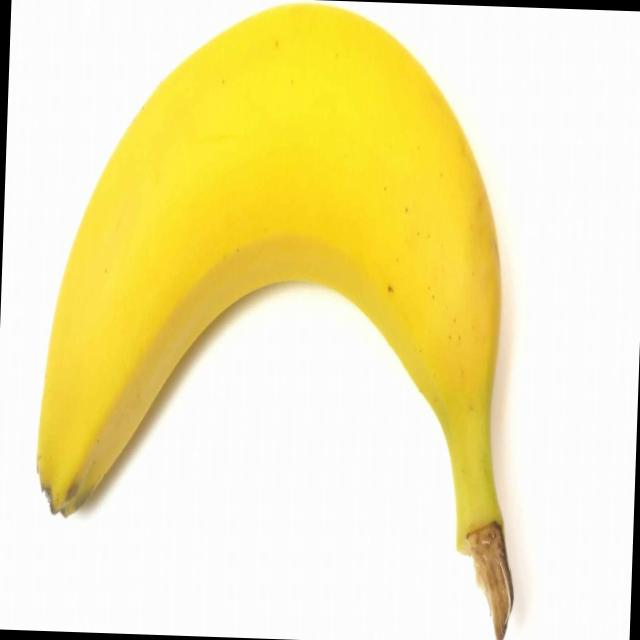banana: (1, 0, 535, 450)
